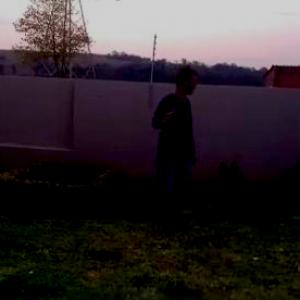takeoff-hand: (154, 103, 182, 130)
